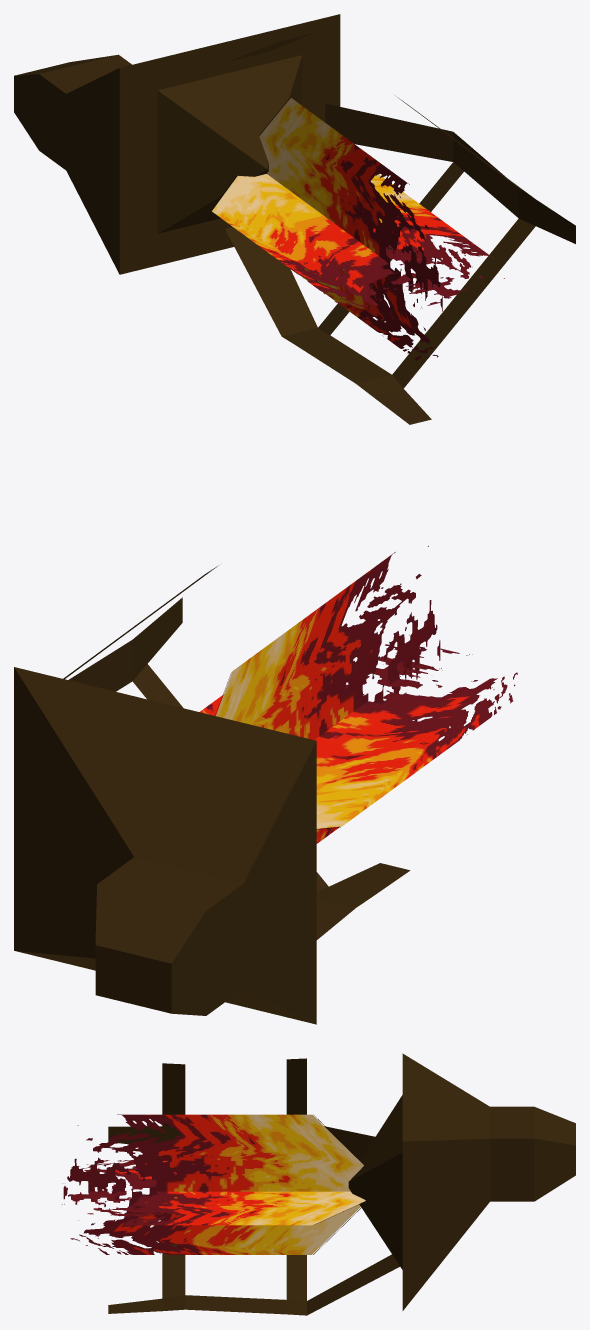
The model's file is torch.fbx.
3 views of the same model, one above another, from view 1: azimuth 30°, elevation 25°; view 2: azimuth 150°, elevation 25°; view 3: azimuth 270°, elevation 25° (orthographic). The views are drawn at different scales.
Parts seen in each view (by area): view 1: Torches, FireY, FireX; view 2: Torches, FireY, FireX; view 3: Torches, FireY, FireX.
Part boxes in pixels (x1,y1,x2,y2): Torches: (14, 14, 575, 424); FireY: (259, 97, 443, 360); FireX: (211, 174, 504, 314); Torches: (14, 565, 410, 1024); FireY: (215, 546, 442, 843); FireX: (199, 644, 517, 829); Torches: (108, 1053, 575, 1315); FireY: (62, 1114, 364, 1254); FireX: (62, 1160, 366, 1225).
Size of the model in its own units: 2.1 by 2.09 by 4.35.
2 materials, 1 textured.
